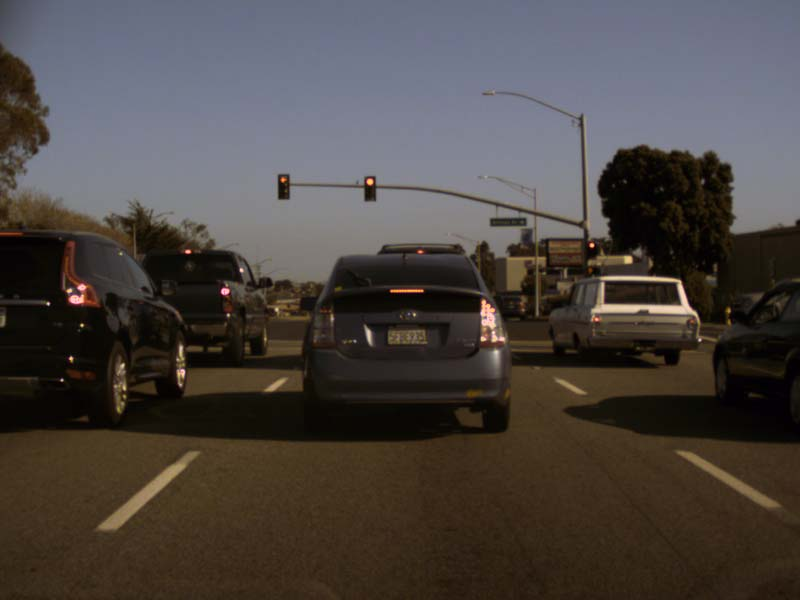Red: (276, 173, 289, 200), (363, 174, 375, 201), (586, 240, 596, 259)
